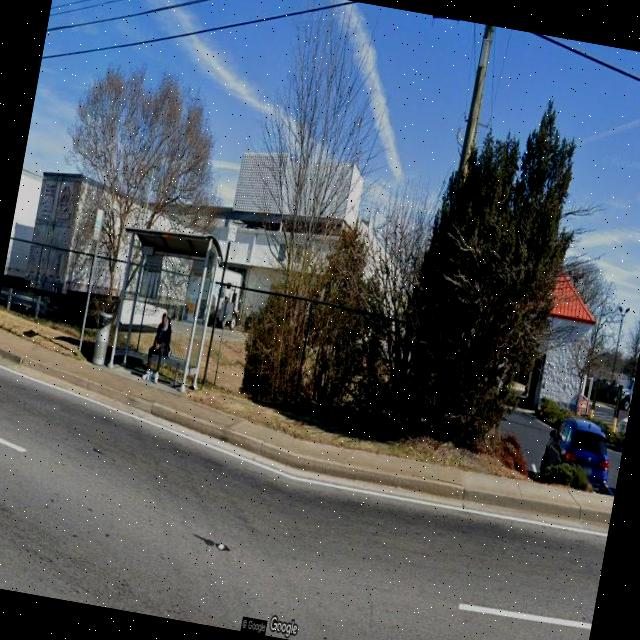seating: (143, 348, 184, 386)
shelter: (98, 218, 228, 396)
trash_can: (90, 310, 113, 366)
